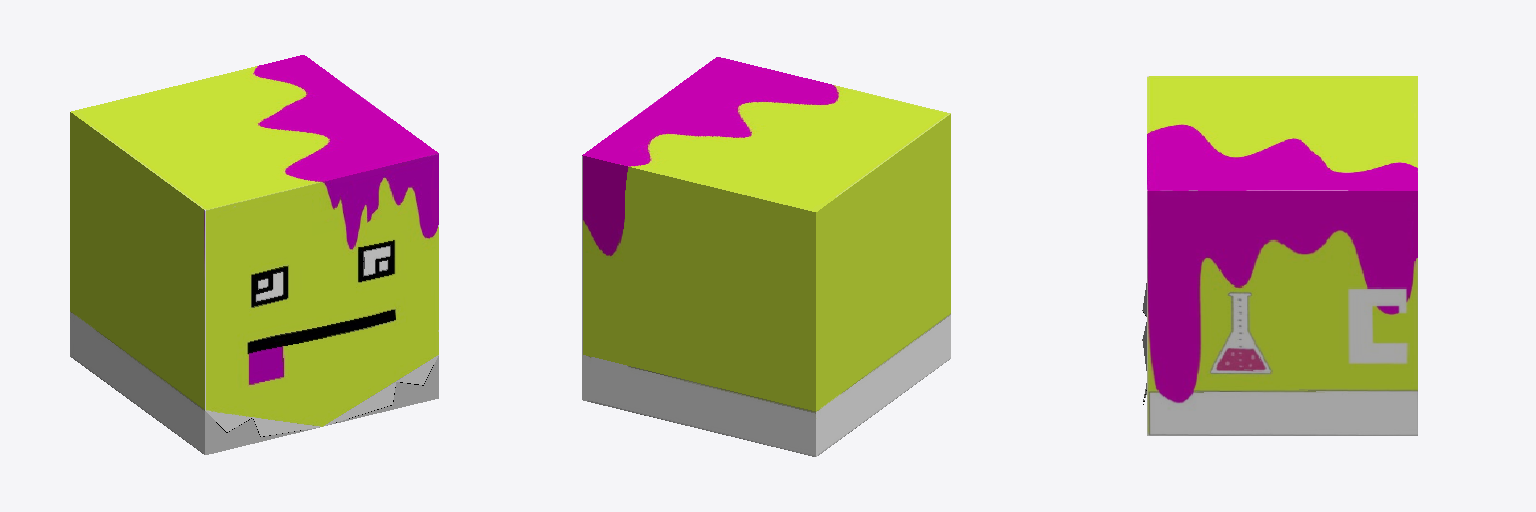
3 views of the same model, side by side, from view 1: azimuth 30°, elevation 25°; view 2: azimuth 150°, elevation 25°; view 3: azimuth 270°, elevation 25° (orthographic).
Visible parts, largest first — view 1: Cube; view 2: Cube; view 3: Cube.
Boxes of the visible parts, x1=… form: Cube: x1=70, y1=55, x2=438, y2=454; Cube: x1=582, y1=57, x2=950, y2=456; Cube: x1=1142, y1=76, x2=1417, y2=435.
Size of the model in its own units: 2 by 2 by 2.04.
3 materials, 1 textured.